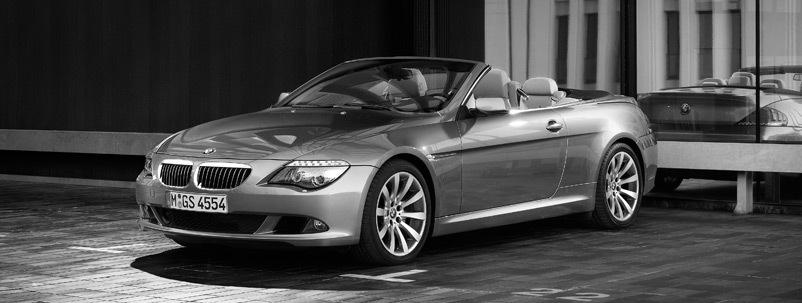car: (130, 53, 666, 270)
